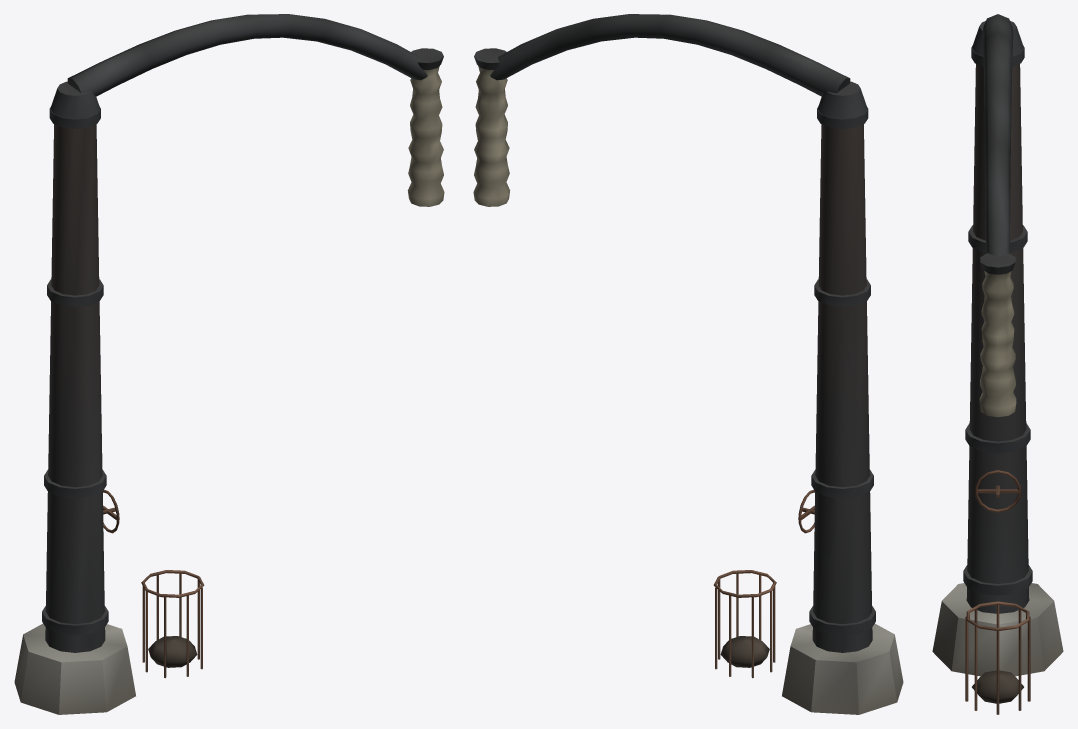
The model's file is m01_prop_water_crane_lod0.glb.
The picture shows the model from 3 angles, left to right: view 1: azimuth 30°, elevation 25°; view 2: azimuth 150°, elevation 25°; view 3: azimuth 270°, elevation 25°; orthographic projection. The views are drawn at different scales.
Parts seen in each view (by area): view 1: water_crane; view 2: water_crane; view 3: water_crane.
Boxes of the visible parts, x1,y1,x2,y2 form: water_crane: (14,14,444,714); water_crane: (473,14,903,714); water_crane: (932,14,1063,714).
Size of the model in its own units: 3.24 by 4.67 by 0.84.
